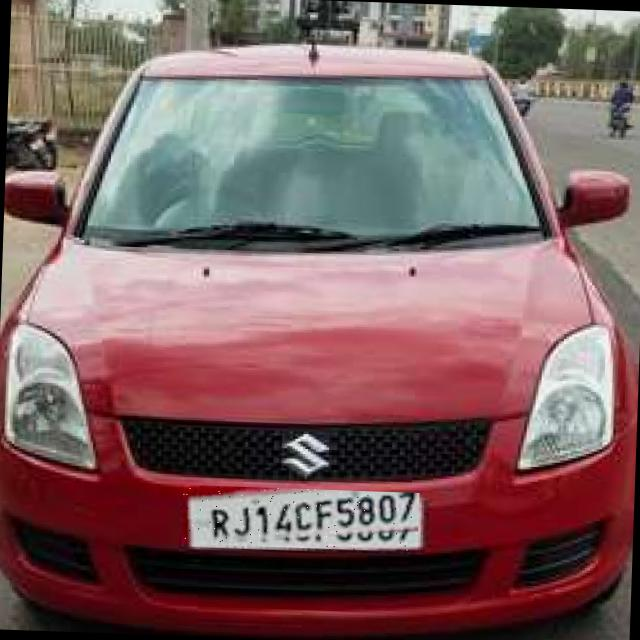Plate: (182, 486, 420, 553)
